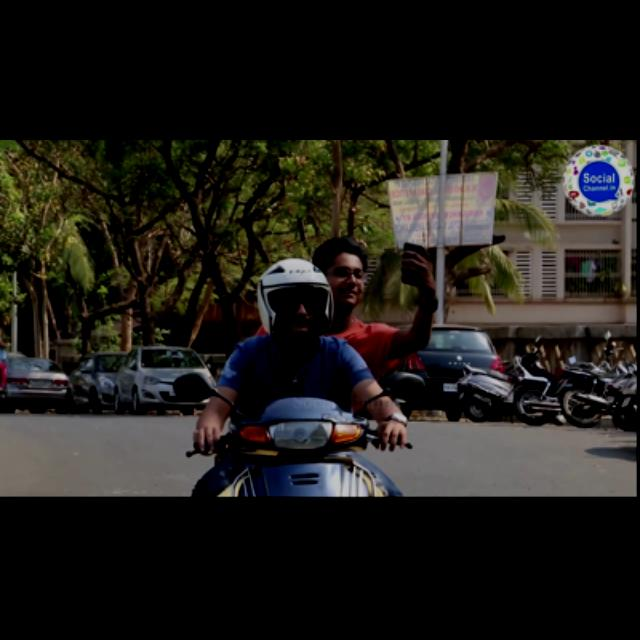With Helmet: (246, 250, 342, 344)
